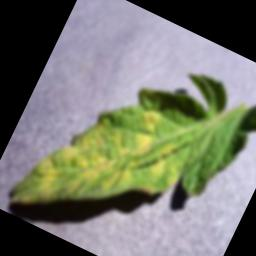Leaf_Mold: (6, 69, 202, 256)
